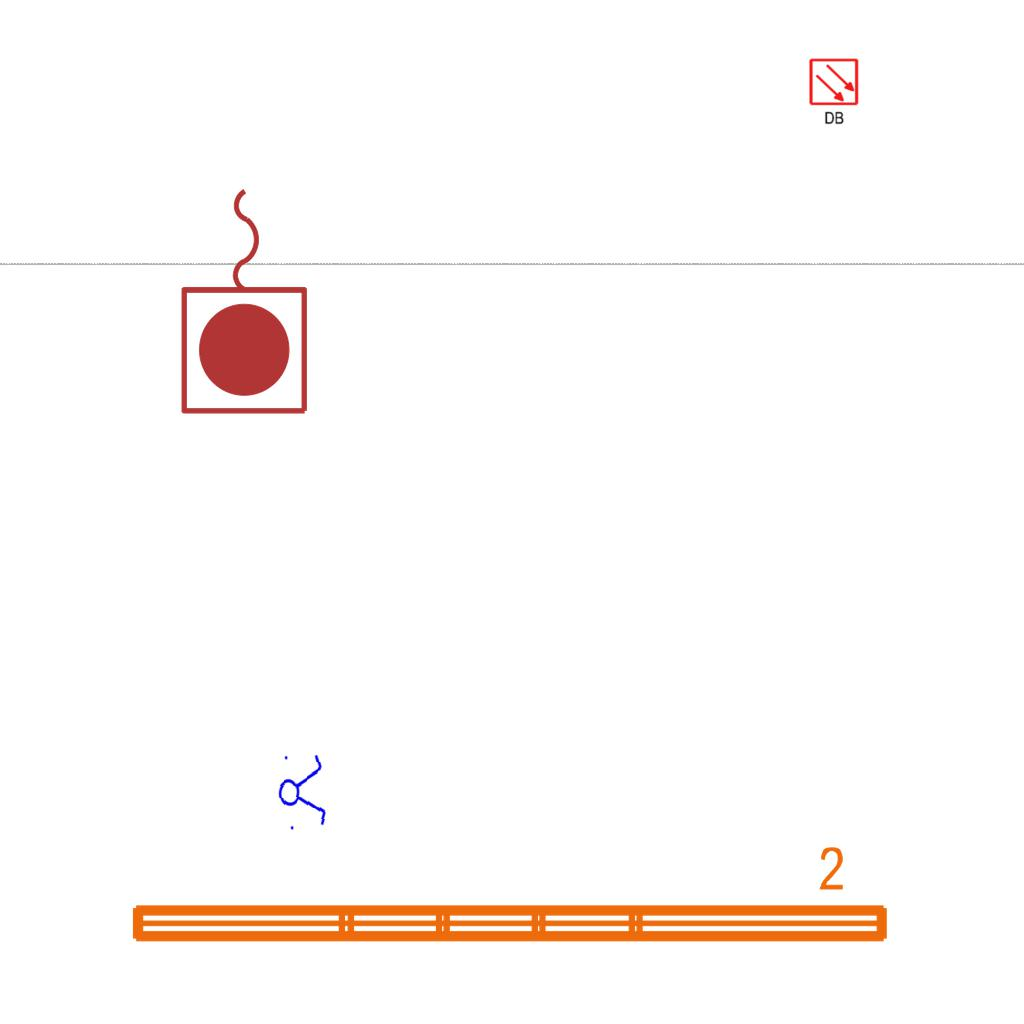Ambulanz_Pendelleuchte_LED: (122, 842, 896, 954)
DB_Melder_in_Doppelboden_mit_Revisionsoeffnung_mind_40_x_40_cm: (806, 55, 863, 129)
Serienschalter: (274, 747, 330, 835)
Zugtaster: (174, 178, 318, 422)
